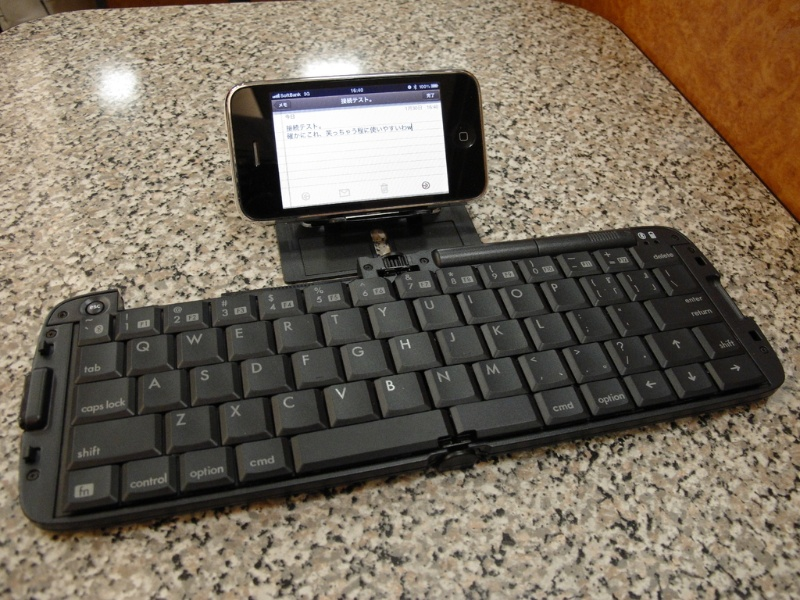cellphone: (222, 74, 489, 205)
